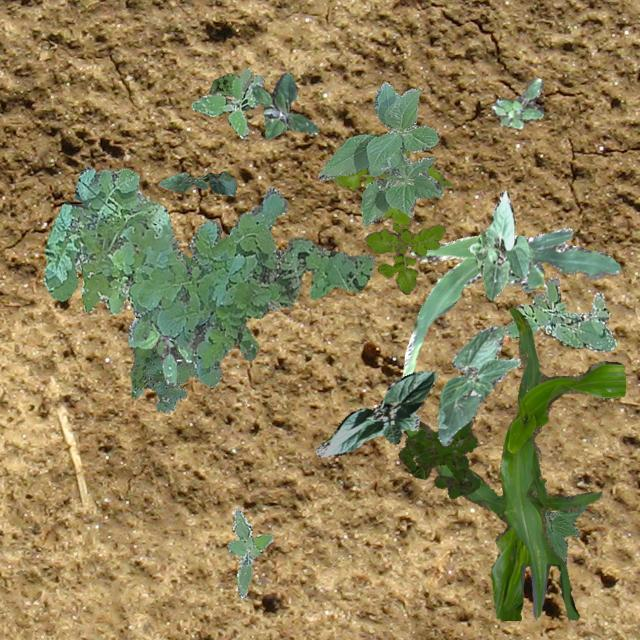crop: (402, 306, 624, 620), (402, 227, 620, 376), (318, 80, 442, 224), (314, 370, 436, 456), (436, 324, 520, 444), (468, 190, 530, 300), (543, 502, 585, 564), (157, 170, 235, 194)
weed: (44, 166, 374, 387), (128, 253, 200, 412), (330, 150, 450, 226), (504, 276, 616, 350), (396, 420, 478, 498), (364, 220, 444, 294), (190, 66, 262, 138), (250, 72, 318, 138), (127, 322, 196, 384), (225, 508, 272, 598), (490, 76, 542, 128), (207, 72, 235, 96)
